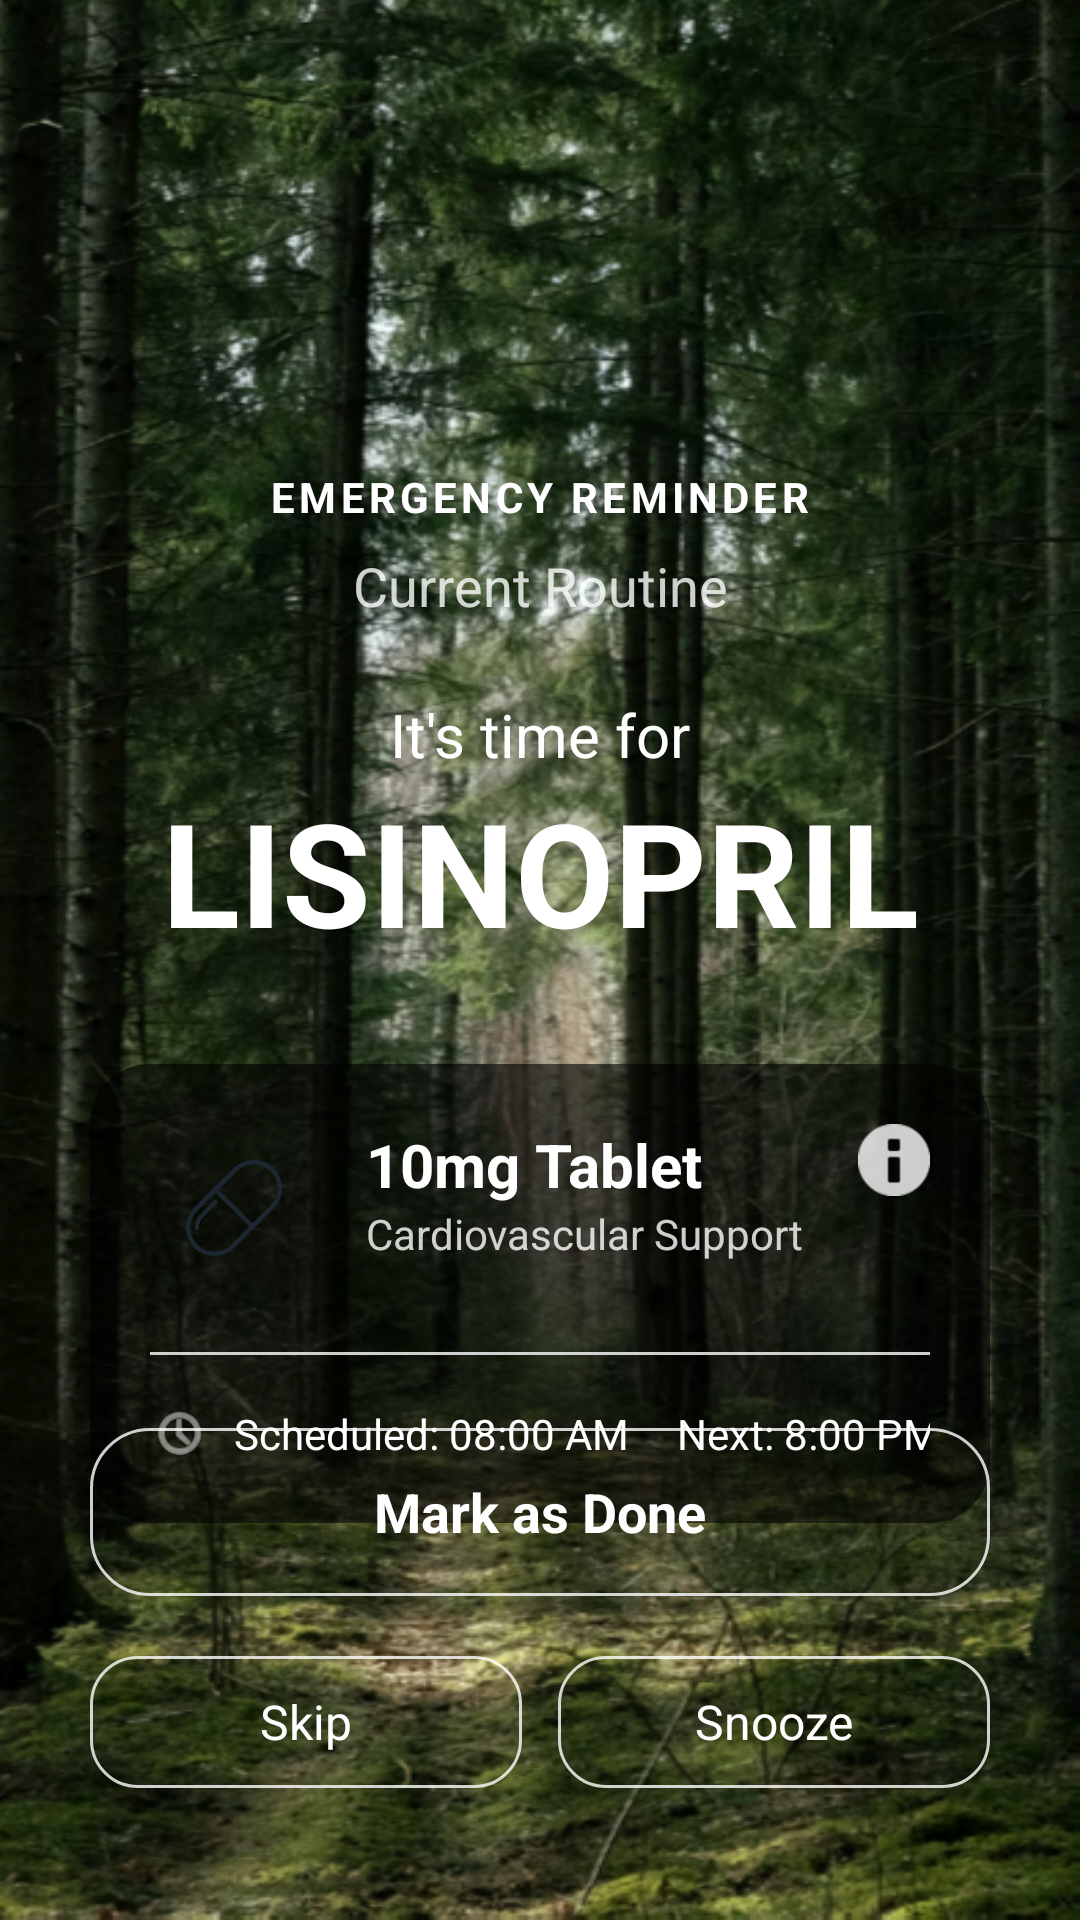

Screen size 1080×1920. Icon name, then its center in pixels as point (x, y):
info: point (894, 1160)
pill: point (222, 1193)
recent history: point (180, 1437)
